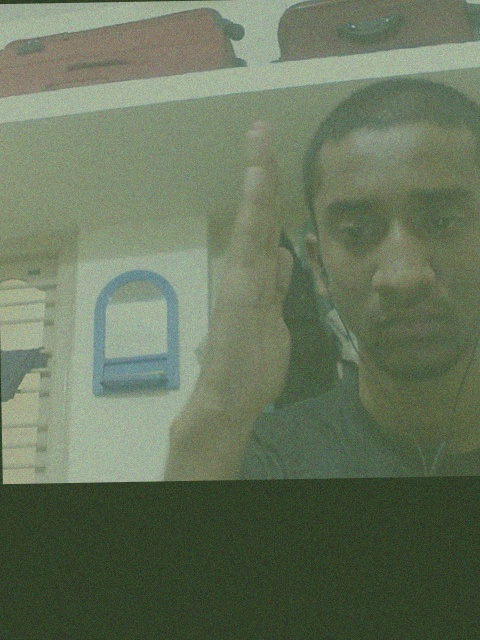hand: (197, 115, 296, 428)
